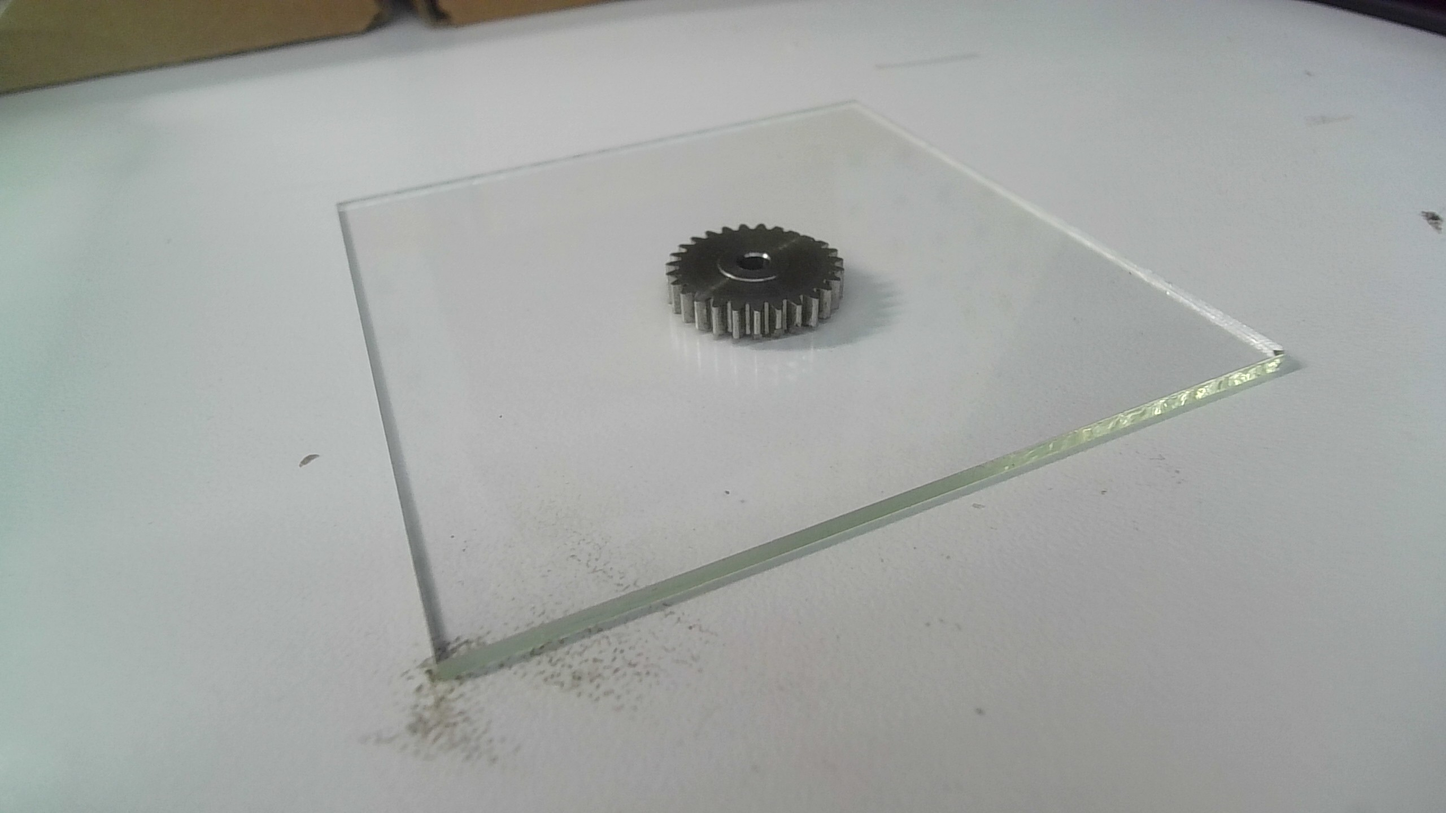gear: (662, 221, 849, 346)
